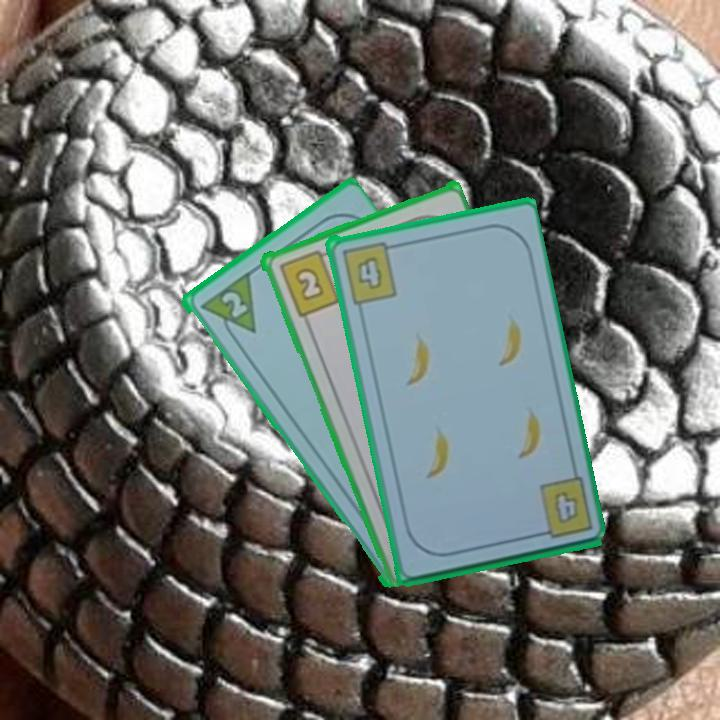2b: (275, 246, 342, 319)
2p: (217, 287, 250, 321)
4b: (530, 473, 595, 542), (338, 237, 400, 306)
